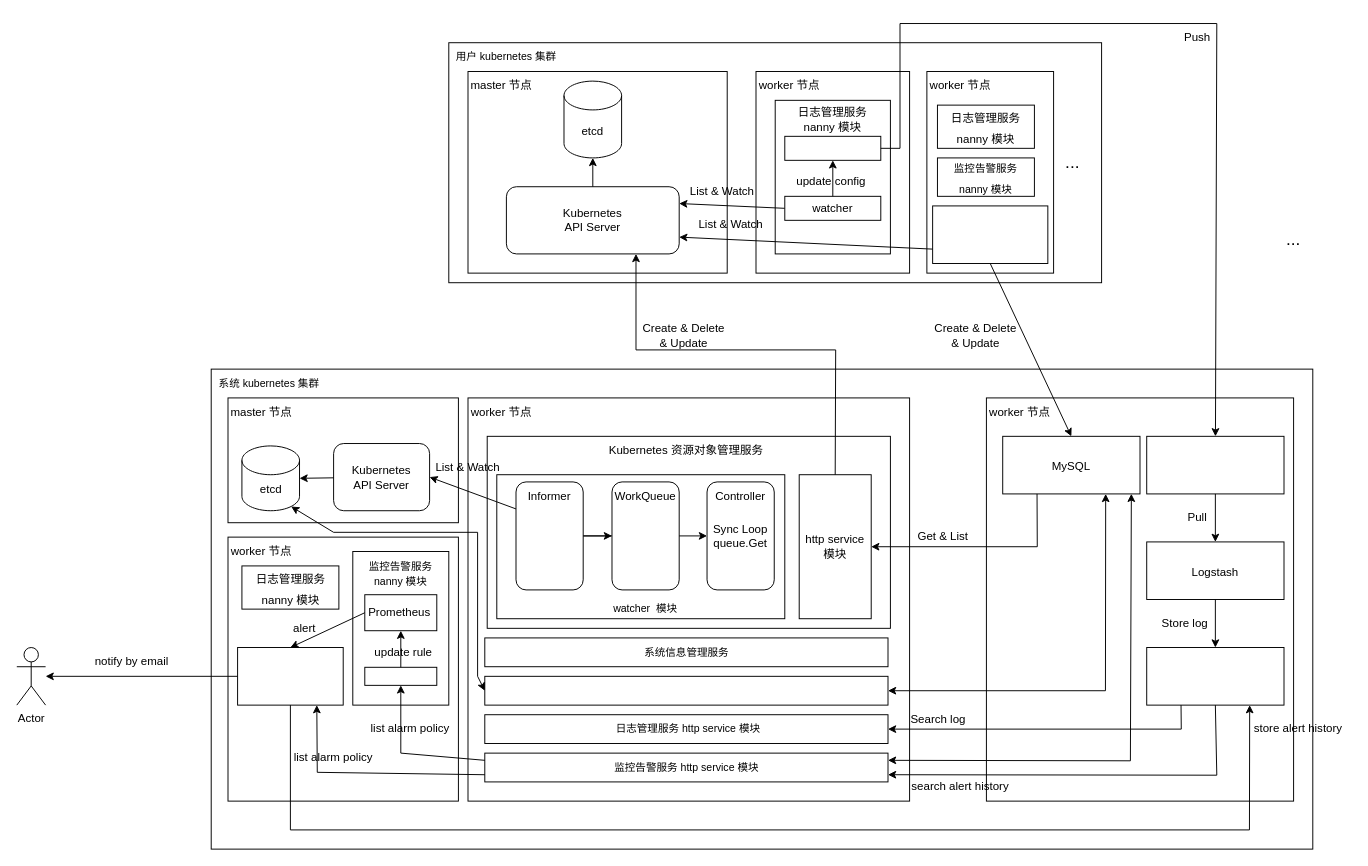
This 1368x866 diagram has some shape labels left out. The box of each missing label's shape, as (x1, y1, x2, y2) in pixels:
AddFunc UpdateFunc DeleteFunc: (611, 481, 679, 590)
Elasticsearch: (1146, 647, 1284, 705)
filebeat: (784, 135, 881, 160)
Kafka: (1146, 435, 1284, 494)
Kubernetes 资源 对象管理服务 watcher 模块: (932, 205, 1048, 264)
Relector Indexer: (515, 481, 583, 590)
Sync Loop: (364, 666, 437, 685)
用户集群管理服务: (484, 675, 888, 705)
监控告警服务 alertmanager 模块: (237, 647, 343, 705)
